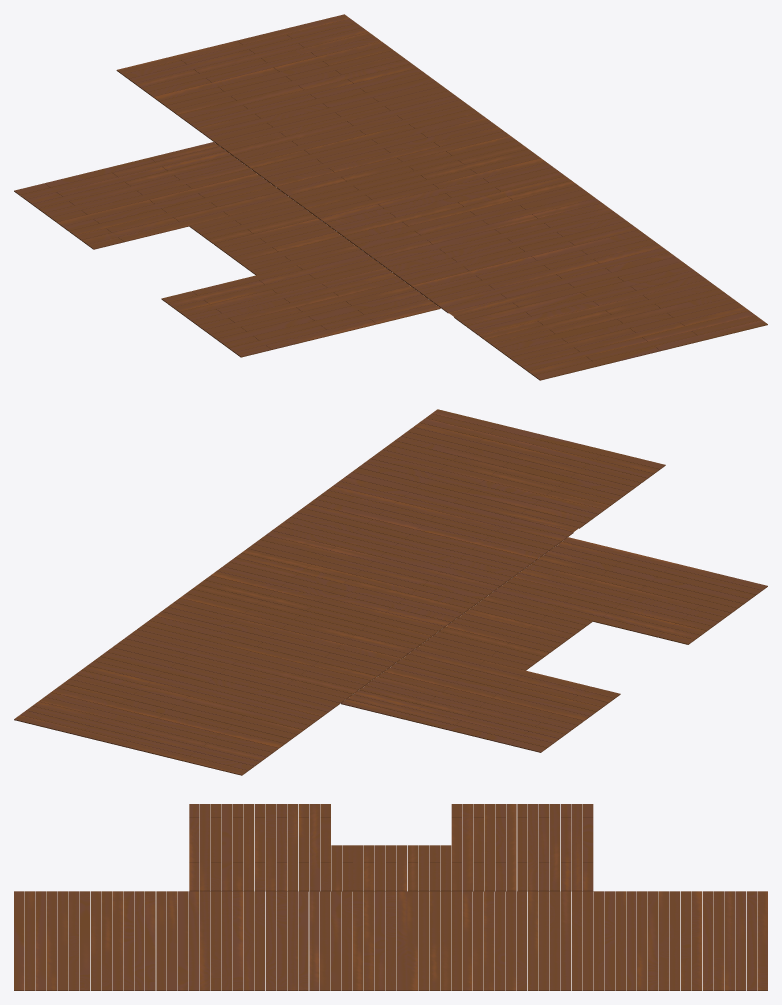
Rendered from Floortextured.fbx.
3 renders of one model, top to bottom at view 1: azimuth 30°, elevation 25°; view 2: azimuth 150°, elevation 25°; view 3: azimuth 270°, elevation 25°, orthographic. The views are drawn at different scales.
Parts seen in each view (by area): view 1: g; view 2: g; view 3: g.
Boxes of the visible parts, x1=… form: g: x1=14, y1=14, x2=767, y2=380; g: x1=14, y1=409, x2=767, y2=775; g: x1=14, y1=804, x2=767, y2=990.
Size of the model in its own units: 3554 by 6.64 by 6081.
1 material, 1 textured.
